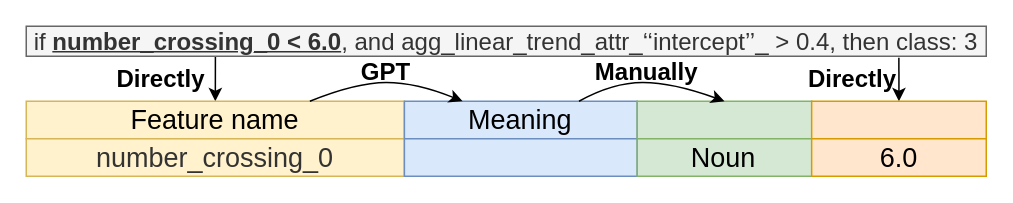
Some shapes in this 1013 by 203 pixel diagram are drawn without their labels. Here are the shapes that lost their labels. From the top down, the centre of each, then its label:
point (724, 119): Type
point (898, 119): Value
point (520, 156): Direction changes
